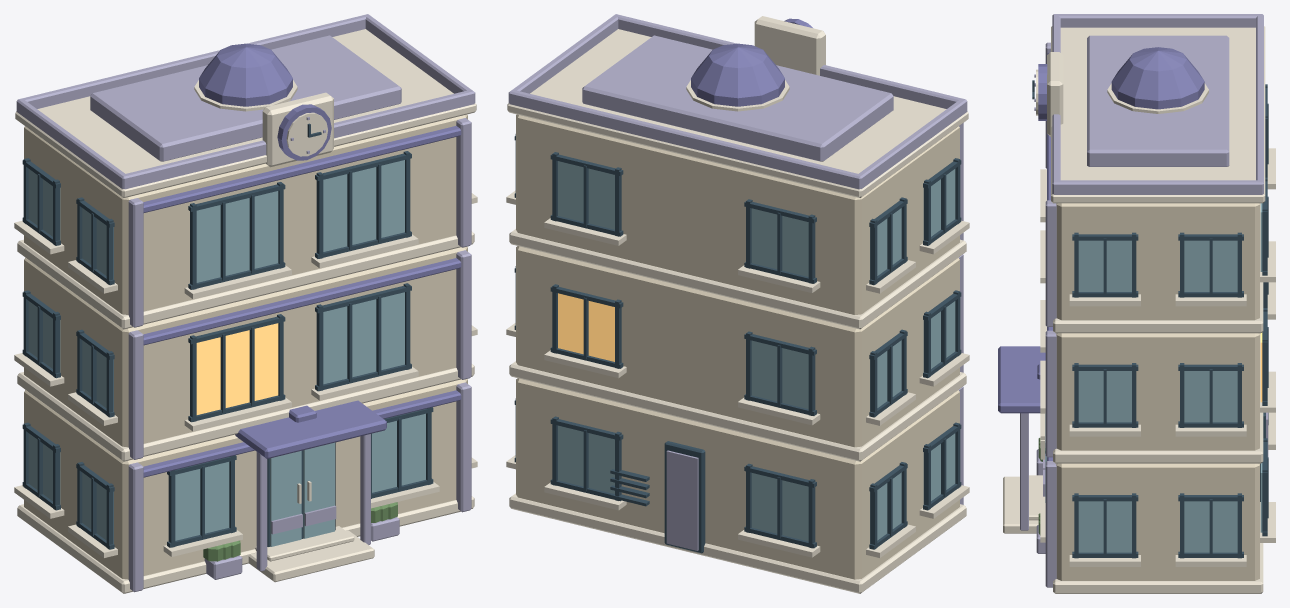
Rendered from learning-l03.glb.
3 views of the same model, side by side, from view 1: azimuth 30°, elevation 25°; view 2: azimuth 150°, elevation 25°; view 3: azimuth 270°, elevation 25° (orthographic).
Parts seen in each view (by area): view 1: learning_L03; view 2: learning_L03; view 3: learning_L03.
Boxes of the visible parts, box(x1,y1,x2,y2) form: learning_L03: box(14, 14, 477, 593); learning_L03: box(506, 14, 969, 593); learning_L03: box(998, 14, 1275, 593).
Bounding box in the file's own units: 6.27 × 7.47 × 4.09.
